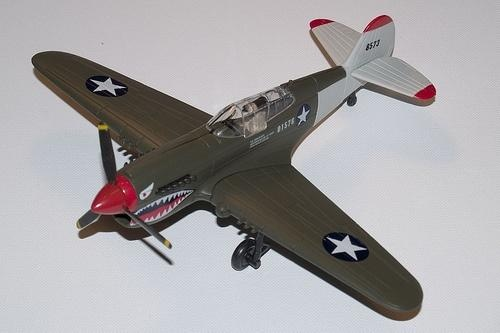aeroplane: (26, 12, 443, 318)
